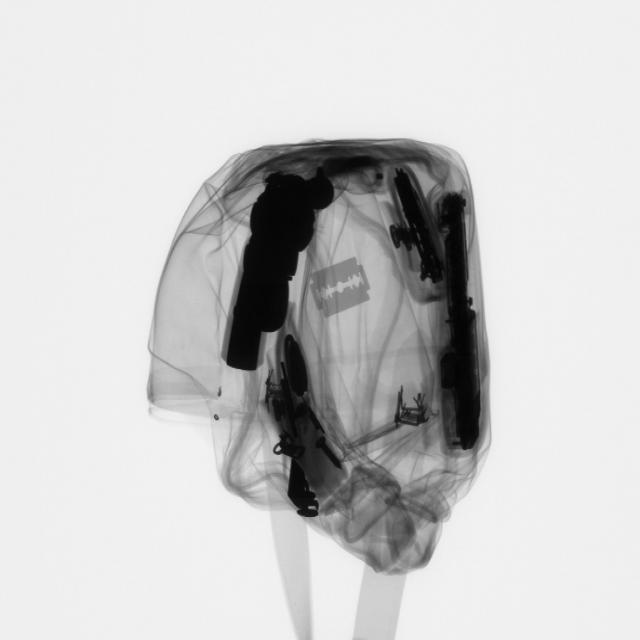BLADE: (305, 255, 378, 328)
GUN: (217, 161, 345, 375)
SCREW: (302, 434, 356, 472)
